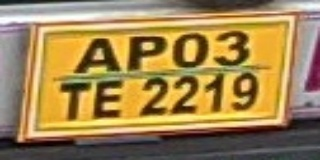0: (170, 30, 210, 70)
1: (202, 72, 229, 114)
2: (169, 73, 201, 116), (138, 76, 168, 118)
3: (213, 28, 251, 68)
9: (230, 70, 262, 114)
A: (74, 36, 121, 75)
E: (94, 77, 129, 120)
P: (124, 32, 167, 71)
T: (57, 80, 92, 122)
